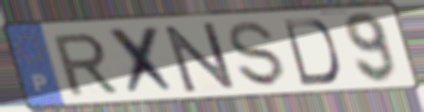9: (343, 10, 401, 87)
D: (280, 17, 342, 87)
N: (161, 20, 239, 96)
R: (49, 30, 122, 98)
S: (226, 20, 288, 89)
X: (105, 23, 182, 98)
